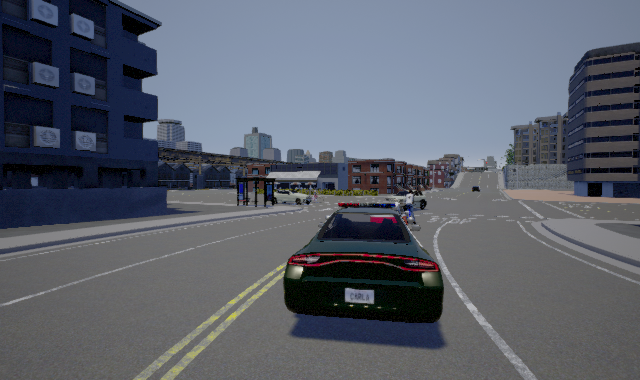bike: (404, 190, 417, 222)
vehicle: (283, 189, 444, 323), (386, 188, 427, 210), (274, 190, 317, 205)
